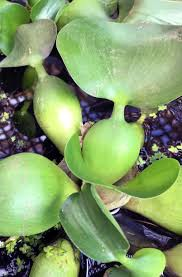water_hyacinth: (1, 0, 182, 277)
